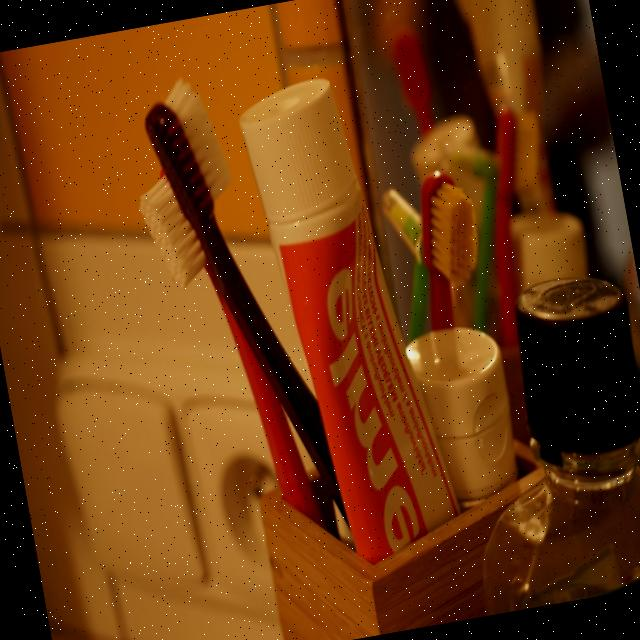Toothpaste: (229, 51, 467, 572)
